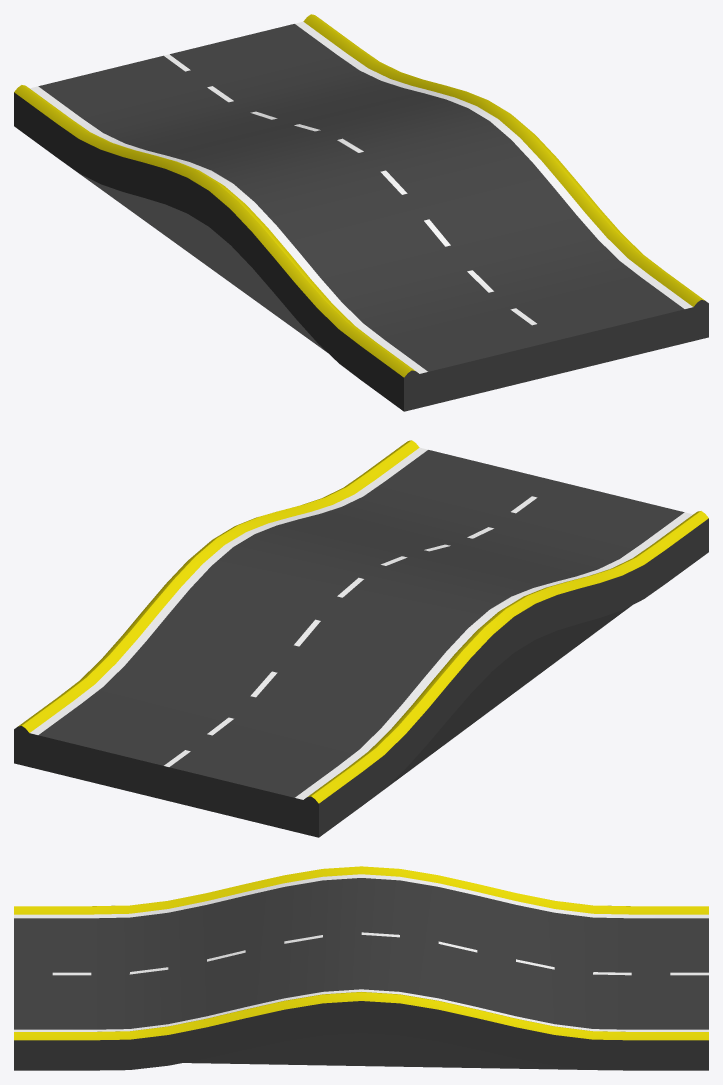
The model's file is plaform2.fbx.
The picture shows the model from 3 angles, top to bottom: view 1: azimuth 30°, elevation 25°; view 2: azimuth 150°, elevation 25°; view 3: azimuth 270°, elevation 25°; orthographic projection. The views are drawn at different scales.
Parts seen in each view (by area): view 1: Cube; view 2: Cube; view 3: Cube.
Boxes of the visible parts, x1,y1,x2,y2 form: Cube: [14, 14, 708, 411]; Cube: [14, 440, 708, 837]; Cube: [14, 866, 708, 1070].
Bounding box in the file's own units: 572 × 151 × 1267.
